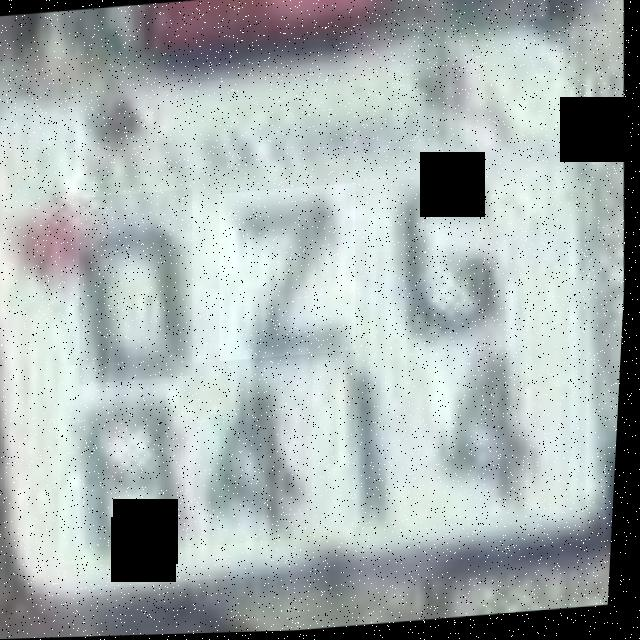1: (304, 355, 425, 536)
4: (412, 338, 558, 540), (176, 356, 326, 550)
8: (54, 358, 198, 567)
G: (374, 169, 524, 363)
O: (74, 190, 205, 386)
Z: (215, 185, 366, 363)
